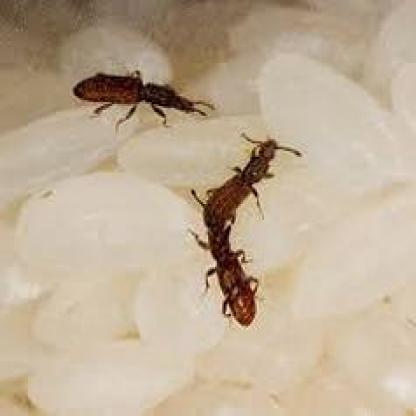rice-bug: (195, 140, 278, 324), (74, 71, 198, 116)
